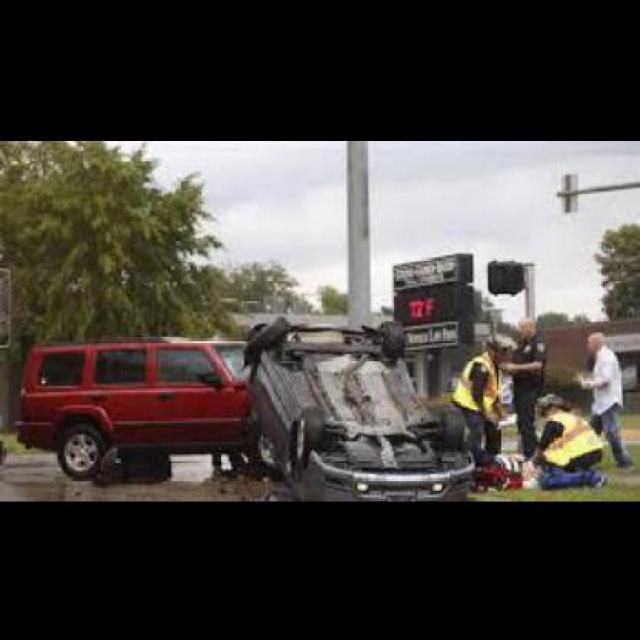accident: (15, 304, 478, 496)
